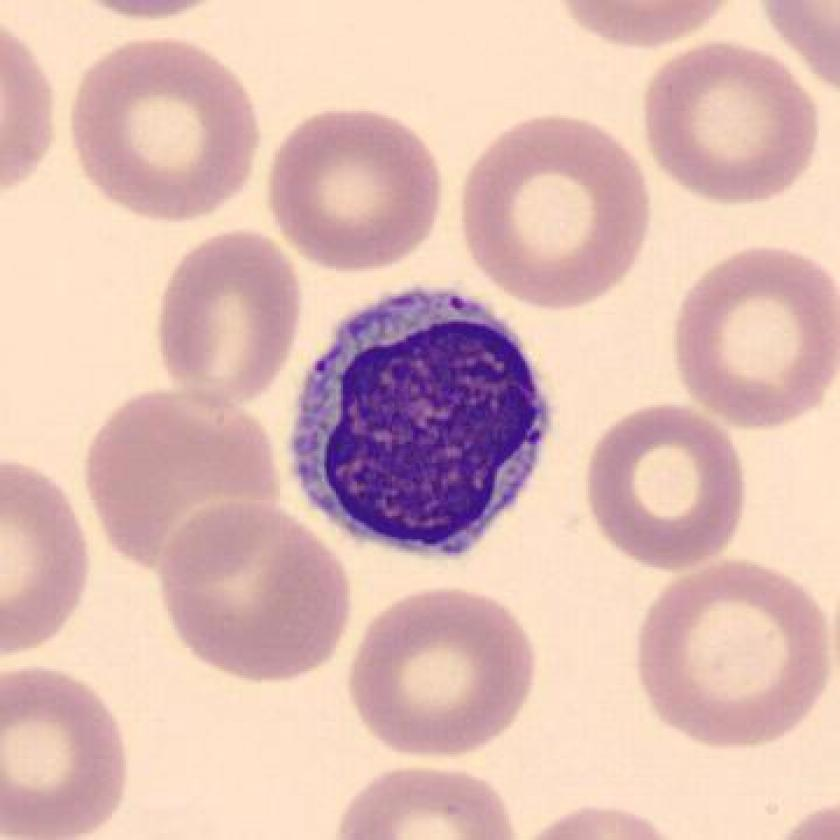lymphocyte: (269, 276, 568, 575)
